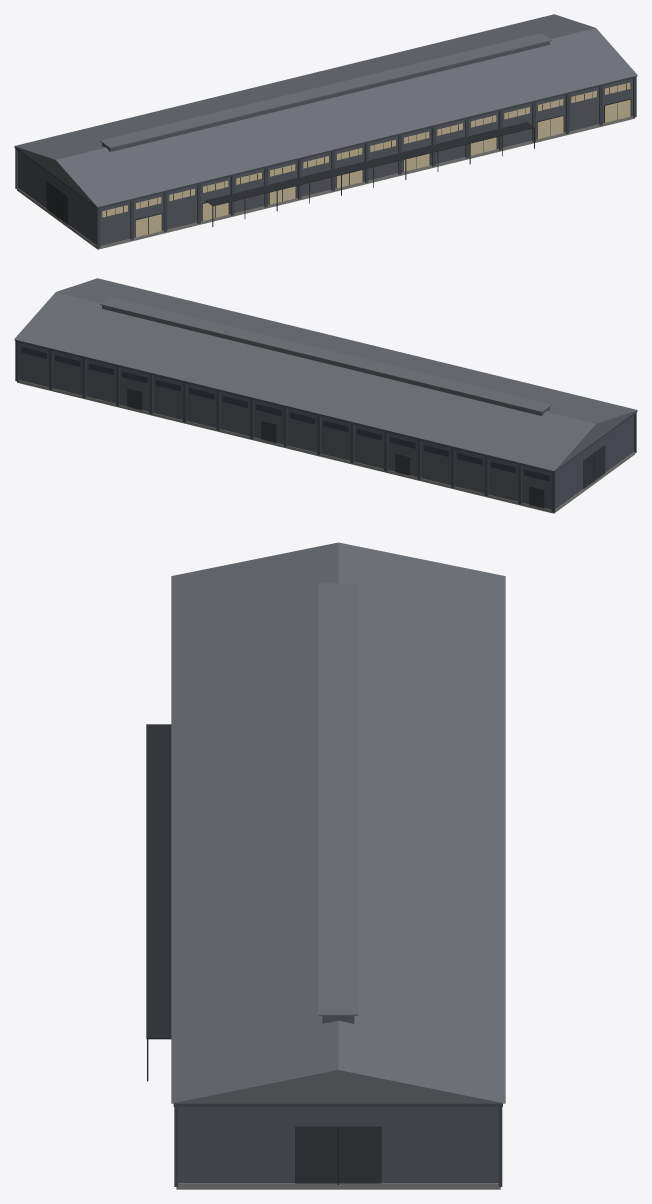
The picture shows the model from 3 angles, top to bottom: view 1: azimuth 30°, elevation 25°; view 2: azimuth 150°, elevation 25°; view 3: azimuth 270°, elevation 25°; orthographic projection. The views are drawn at different scales.
Parts seen in each view (by area): view 1: u2; view 2: u2; view 3: u2.
Boxes of the visible parts, x1,y1,x2,y2 form: u2: [14, 14, 637, 249]; u2: [14, 278, 637, 513]; u2: [146, 542, 505, 1189].
Bounding box in the file's own units: 101 × 11.44 × 29.
